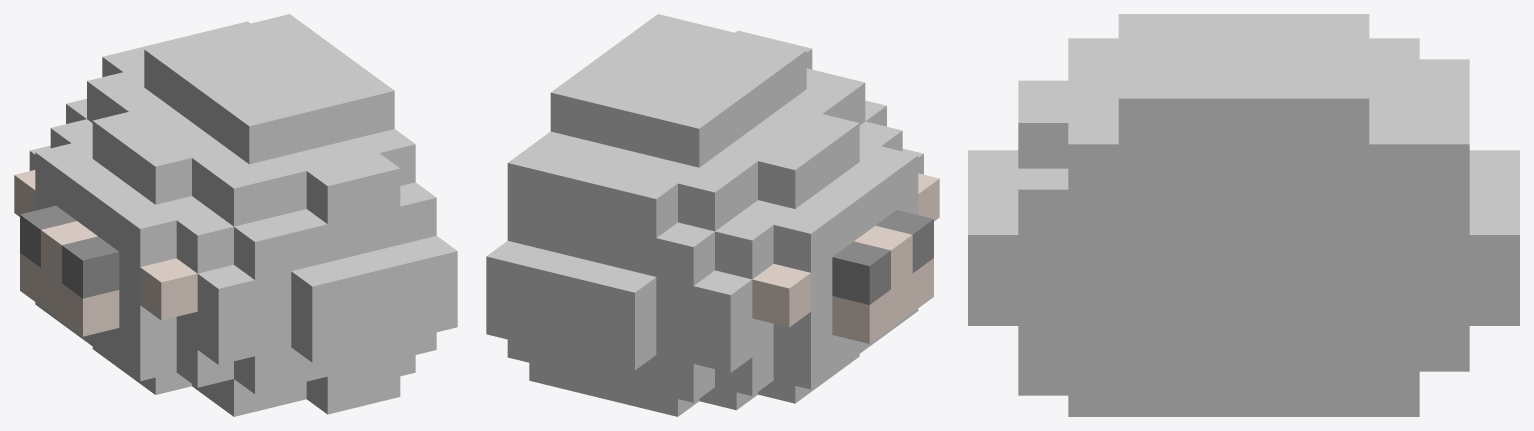
File: oveja_mochila.fbx
The picture shows the model from 3 angles, left to right: view 1: azimuth 30°, elevation 25°; view 2: azimuth 150°, elevation 25°; view 3: azimuth 270°, elevation 25°; orthographic projection. The views are drawn at different scales.
Visible parts, largest first — view 1: cabea decapitada jeje_8x7x11; view 2: cabea decapitada jeje_8x7x11; view 3: cabea decapitada jeje_8x7x11.
Boxes of the visible parts, box(x1,y1,x2,y2) form: cabea decapitada jeje_8x7x11: box(14, 14, 457, 416); cabea decapitada jeje_8x7x11: box(486, 14, 939, 416); cabea decapitada jeje_8x7x11: box(968, 14, 1519, 416).
Size of the model in its own units: 800 by 700 by 1100.
